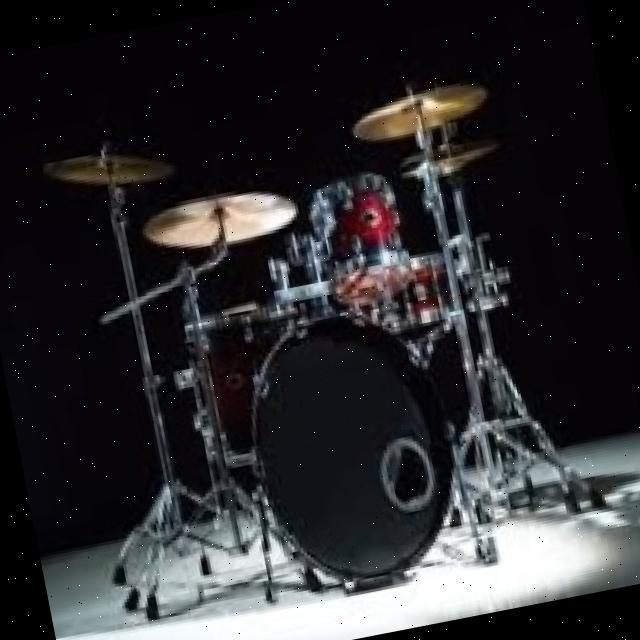drums: (41, 62, 610, 634)
